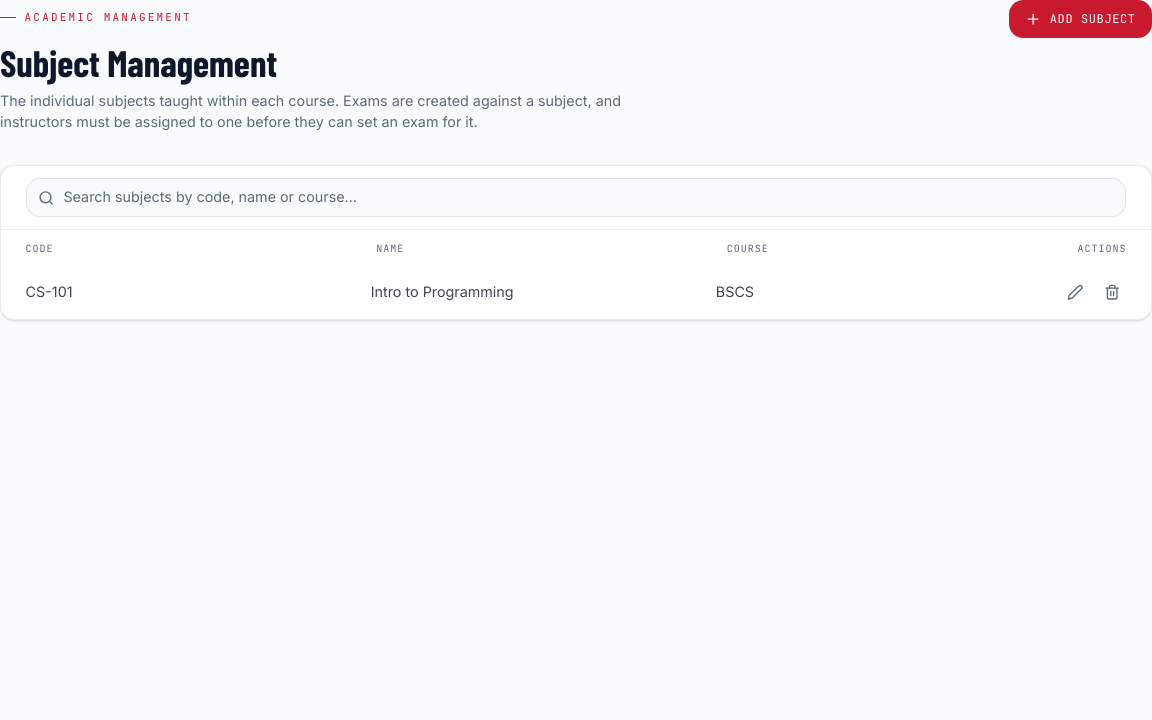
Test case: Subjects — a row answers what it is, and which course it belongs to › names the course in the details rather than only its code in the table
The image size is (1152, 720).
Click the text "Intro to Programming". click: (442, 292)
box: [371,283,514,300]
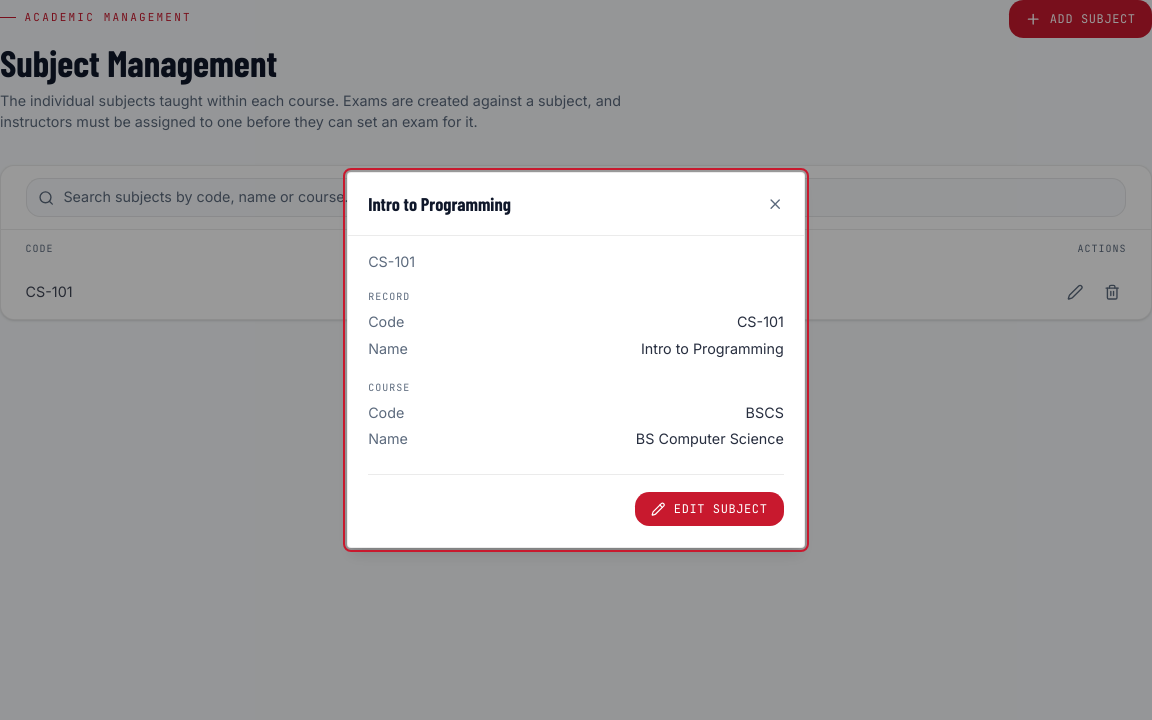
Check: the dialog shows "BS Computer Science", box [636,430,784,448]
